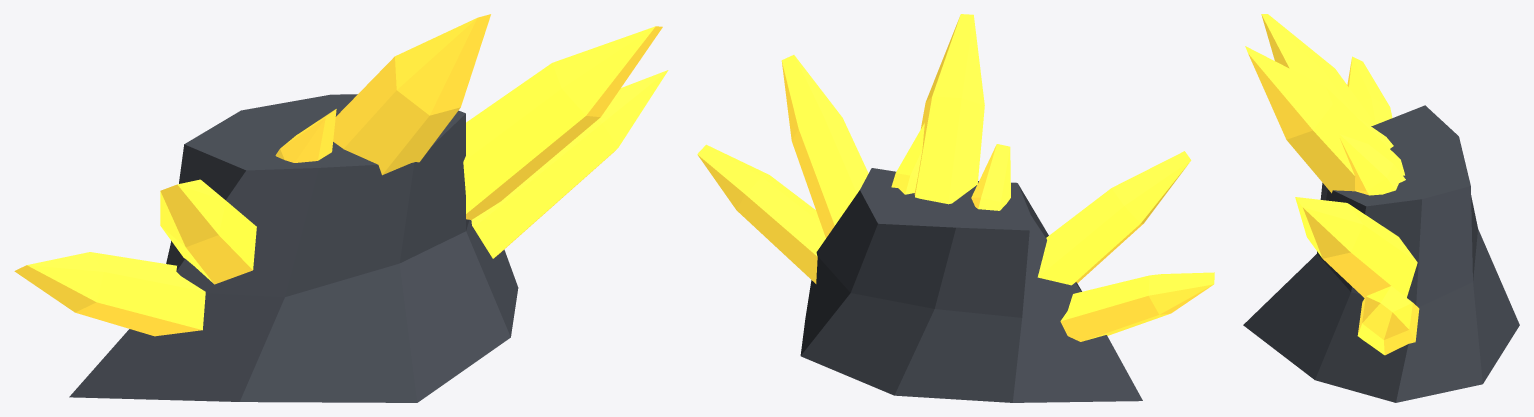
The model's file is PROP_12_CrystalCaveWall.fbx.
3 renders of one model, left to right at view 1: azimuth 30°, elevation 25°; view 2: azimuth 150°, elevation 25°; view 3: azimuth 270°, elevation 25°, orthographic. The views are drawn at different scales.
Visible parts, largest first — view 1: PROP_12_CrystalCaveWall; view 2: PROP_12_CrystalCaveWall; view 3: PROP_12_CrystalCaveWall.
Boxes of the visible parts, left/top/right/bottom form: PROP_12_CrystalCaveWall: left=14, top=14, right=668, bottom=402; PROP_12_CrystalCaveWall: left=697, top=14, right=1214, bottom=402; PROP_12_CrystalCaveWall: left=1243, top=14, right=1519, bottom=402.
Bounding box in the file's own units: 297 × 156 × 129.
